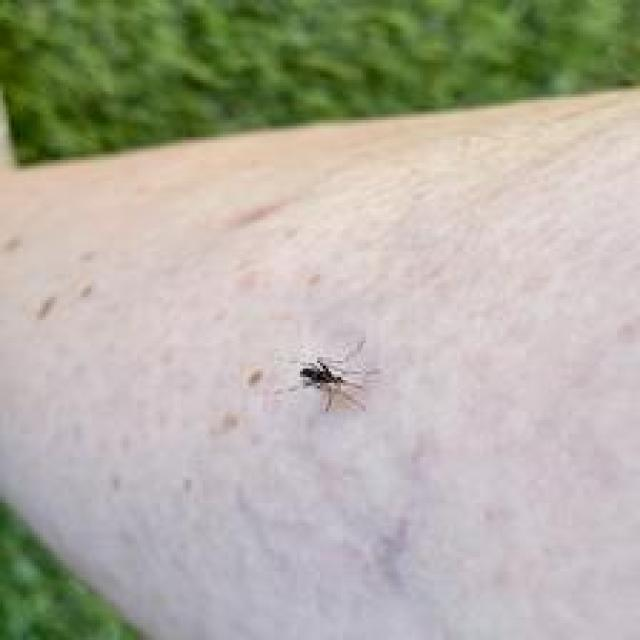Aedes albopictus: (284, 336, 379, 413)
